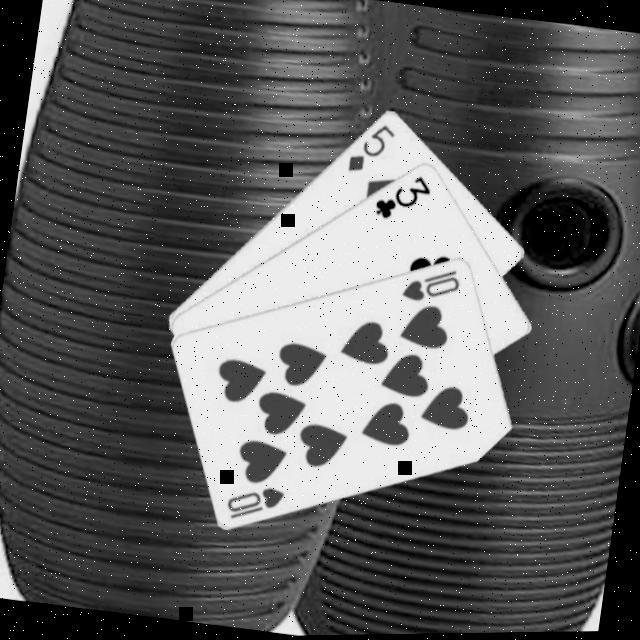10H: (396, 259, 464, 309), (220, 476, 287, 526)
3C: (368, 164, 435, 227)
5D: (342, 115, 398, 179)
